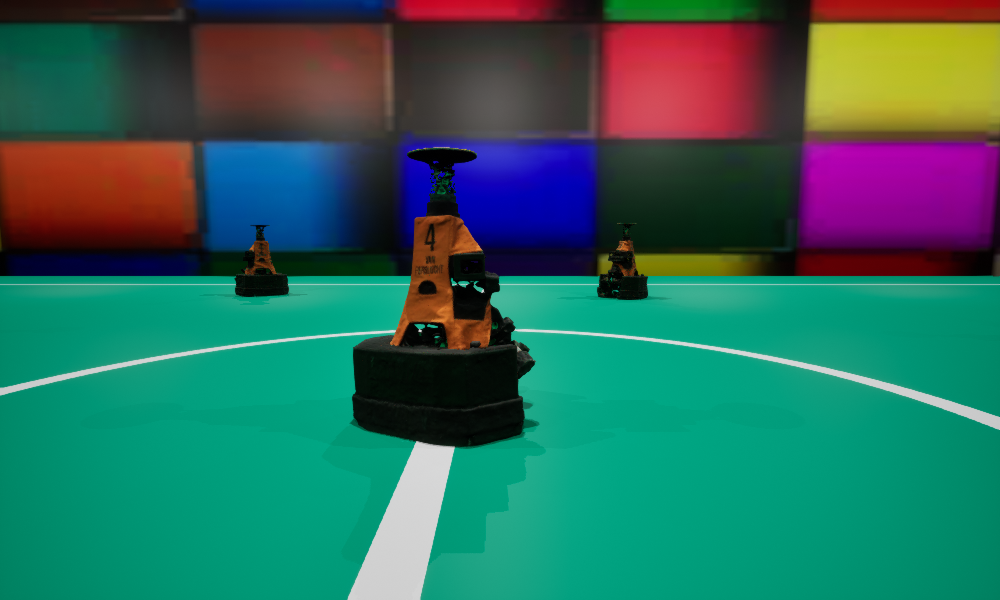0 orange robot TechUnited: (352, 147, 535, 446), (234, 225, 288, 295), (597, 223, 647, 298)
